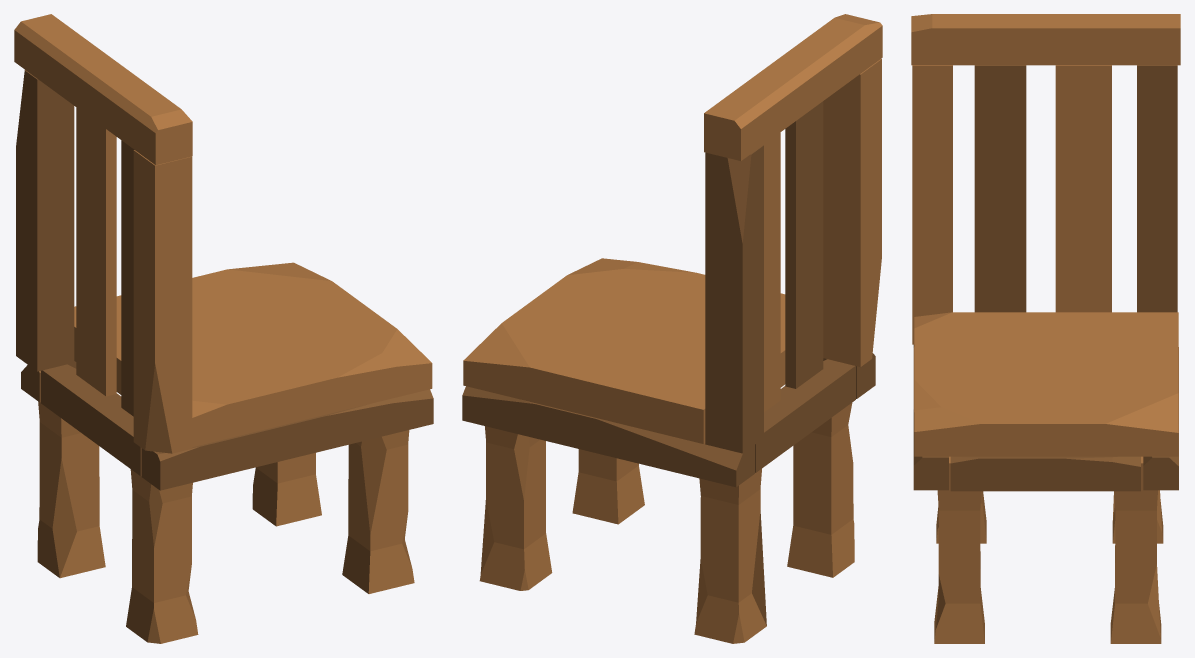
File: Low Poly Chair.fbx
3 views of the same model, side by side, from view 1: azimuth 30°, elevation 25°; view 2: azimuth 150°, elevation 25°; view 3: azimuth 270°, elevation 25° (orthographic). The views are drawn at different scales.
Visible parts, largest first — view 1: Low Poly Chair; view 2: Low Poly Chair; view 3: Low Poly Chair.
Boxes of the visible parts, x1=… form: Low Poly Chair: x1=14, y1=14, x2=433, y2=643; Low Poly Chair: x1=462, y1=14, x2=882, y2=643; Low Poly Chair: x1=911, y1=14, x2=1180, y2=643.
Size of the model in its own units: 70.71 by 128 by 61.53.
